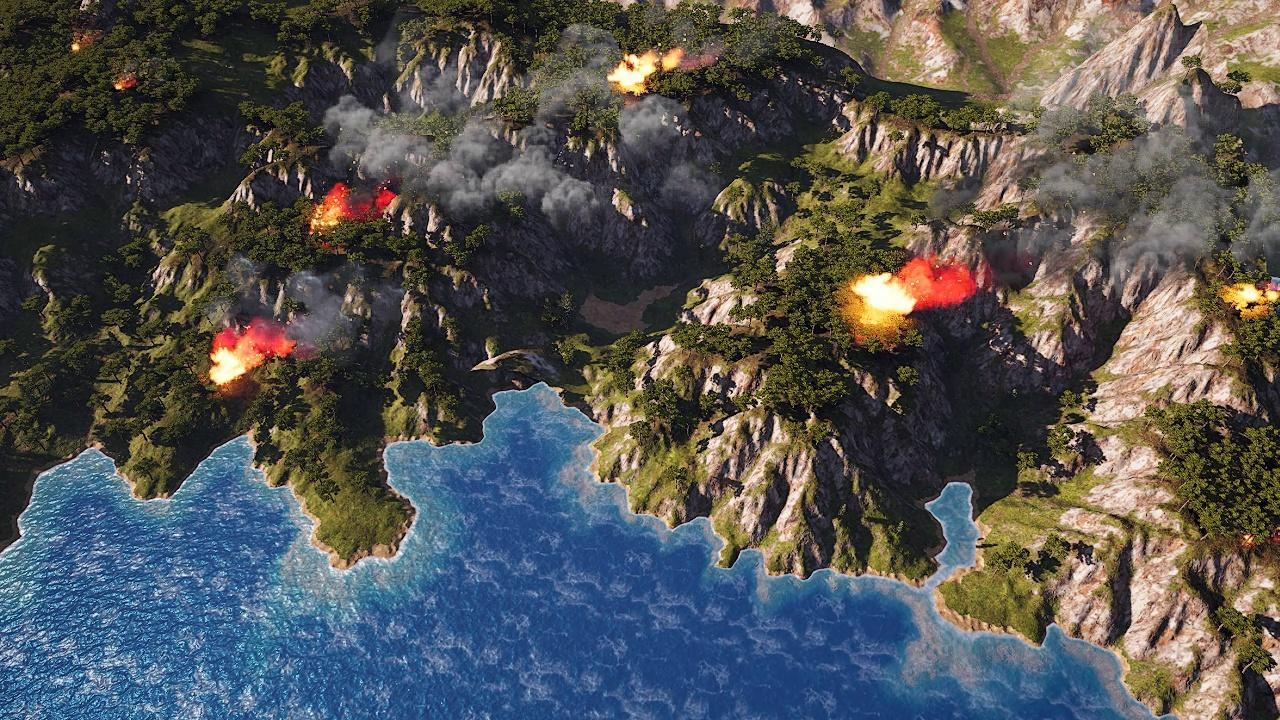fire: (852, 258, 979, 325), (207, 335, 293, 389), (303, 183, 394, 232), (605, 45, 690, 95), (67, 31, 94, 57), (113, 75, 144, 92)
smoke: (318, 29, 694, 213), (927, 100, 1280, 278), (253, 272, 352, 348)
